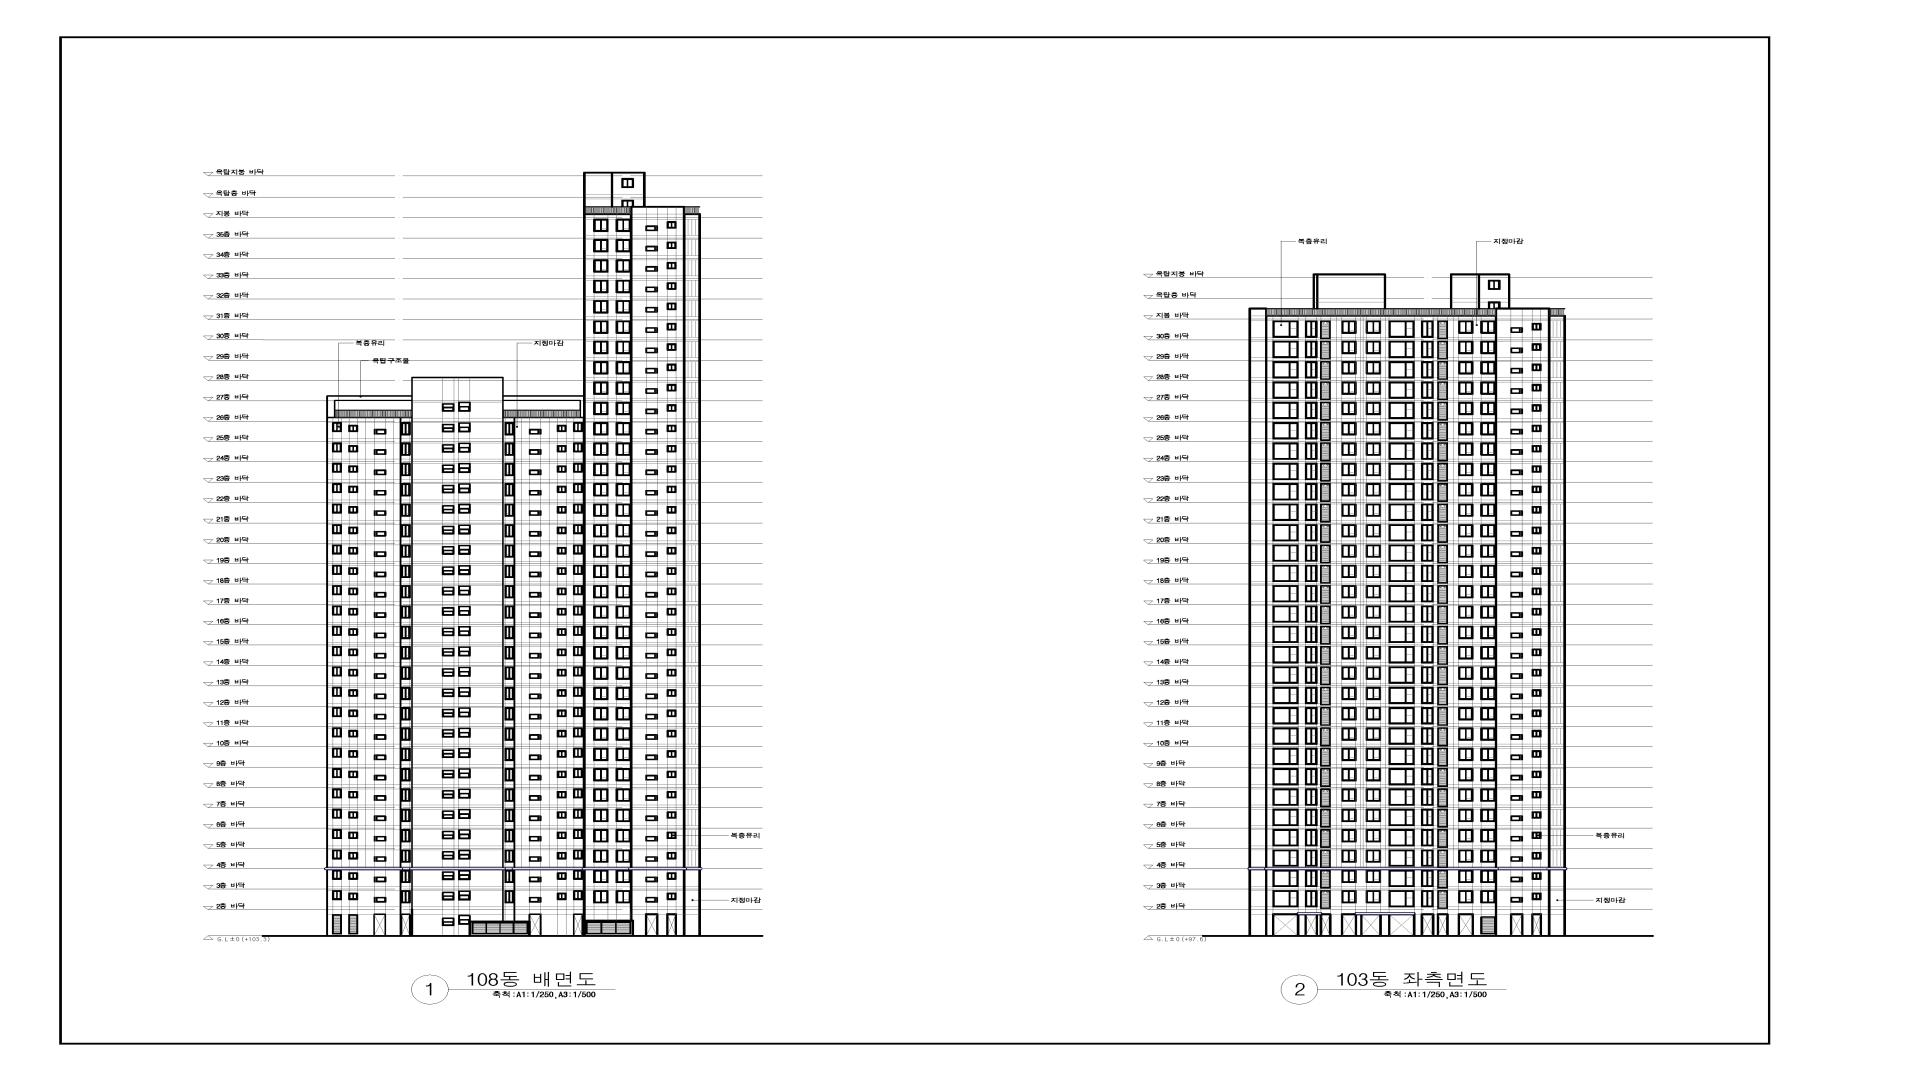door: (1389, 914, 1416, 936), (1273, 914, 1299, 936), (1360, 914, 1382, 936), (1457, 913, 1474, 936), (1341, 913, 1357, 936), (1420, 913, 1435, 936), (1510, 914, 1524, 936), (645, 913, 658, 936), (373, 914, 386, 936), (400, 914, 413, 936), (529, 914, 542, 936), (1304, 914, 1317, 936), (1320, 914, 1332, 936), (1437, 914, 1449, 936), (666, 913, 676, 936), (1531, 913, 1542, 936), (572, 914, 583, 936)
wall: (326, 171, 702, 938), (1249, 273, 1567, 936)
window: (472, 922, 529, 935), (585, 922, 632, 935), (1389, 829, 1415, 847), (1389, 808, 1415, 825), (1389, 789, 1415, 806), (1389, 767, 1415, 785), (1389, 748, 1415, 765), (1389, 728, 1415, 745), (1389, 707, 1415, 724), (1389, 687, 1415, 704), (1389, 666, 1415, 683), (1389, 646, 1415, 663), (1389, 625, 1415, 642), (1389, 605, 1415, 622), (1389, 585, 1415, 603), (1389, 564, 1415, 582), (1389, 545, 1415, 562), (1389, 525, 1415, 542), (1273, 890, 1299, 907), (1273, 870, 1299, 887), (1273, 849, 1299, 866), (1273, 829, 1299, 847), (1273, 808, 1299, 825), (1273, 789, 1299, 806), (1273, 769, 1299, 786), (1273, 748, 1299, 765), (1273, 728, 1299, 745), (1273, 707, 1299, 724), (1273, 687, 1299, 704), (1273, 666, 1299, 683), (1273, 646, 1299, 663), (1273, 626, 1299, 644), (1273, 605, 1299, 622), (1273, 585, 1299, 603), (1273, 564, 1299, 582), (1273, 545, 1299, 562), (1273, 525, 1299, 542), (1273, 504, 1299, 521), (1273, 463, 1299, 480), (1273, 443, 1299, 460), (1273, 422, 1299, 439), (1273, 402, 1299, 419), (1273, 381, 1299, 398), (1273, 361, 1299, 378), (1273, 320, 1299, 338), (1389, 890, 1415, 907), (1389, 870, 1415, 887), (1389, 849, 1415, 866), (1389, 504, 1415, 521), (1389, 483, 1415, 500), (1389, 463, 1415, 480), (1389, 422, 1415, 439), (1389, 402, 1415, 419), (1389, 381, 1415, 398), (1389, 361, 1415, 378), (1389, 340, 1415, 357), (1389, 320, 1415, 338), (1273, 484, 1299, 500), (1273, 342, 1299, 357), (1389, 443, 1415, 459), (1480, 916, 1495, 935), (616, 381, 632, 396), (1458, 524, 1474, 538), (1341, 666, 1357, 680), (1341, 524, 1357, 538), (1341, 442, 1357, 456), (1480, 524, 1495, 538), (1365, 666, 1381, 680), (1420, 789, 1433, 806), (1420, 728, 1433, 745), (1420, 646, 1433, 663), (1420, 585, 1433, 603), (1420, 545, 1433, 562), (1304, 890, 1317, 907), (1304, 545, 1317, 562), (348, 914, 359, 935), (1422, 524, 1433, 542), (1305, 666, 1317, 684), (1305, 524, 1317, 542), (1305, 442, 1317, 460), (616, 483, 630, 497), (616, 442, 630, 456), (616, 340, 630, 355), (593, 767, 608, 782), (593, 666, 608, 680), (593, 524, 608, 538), (616, 870, 632, 884), (616, 687, 632, 700), (616, 667, 632, 680), (616, 646, 632, 659), (616, 545, 632, 558), (616, 402, 632, 415), (593, 890, 609, 903), (593, 870, 609, 884), (593, 849, 609, 862), (593, 789, 609, 802), (593, 626, 609, 640), (593, 564, 609, 578), (1458, 626, 1474, 640), (1458, 605, 1474, 618), (1458, 585, 1474, 599), (1458, 545, 1474, 558), (1458, 504, 1474, 517), (1458, 422, 1474, 435), (1458, 402, 1474, 415), (1458, 381, 1474, 394), (1458, 361, 1474, 375), (1458, 342, 1474, 355), (1458, 320, 1474, 334), (1480, 890, 1495, 903), (1480, 870, 1495, 884), (1480, 849, 1495, 862), (1480, 829, 1495, 843), (1480, 808, 1495, 822), (1480, 789, 1495, 802), (1480, 767, 1495, 781), (1480, 748, 1495, 761), (1480, 728, 1495, 741), (1480, 707, 1495, 720), (1480, 687, 1495, 700), (1480, 666, 1495, 679), (1480, 646, 1495, 659), (1480, 626, 1495, 640), (1480, 605, 1495, 618), (1480, 585, 1495, 599), (1480, 564, 1495, 578), (1437, 625, 1448, 645), (1437, 564, 1448, 584), (1437, 524, 1448, 543), (1437, 483, 1448, 502), (1437, 340, 1448, 360), (1341, 890, 1357, 903), (1341, 870, 1357, 884), (1341, 849, 1357, 862), (1341, 829, 1357, 843), (1341, 808, 1357, 822), (1341, 789, 1357, 802), (1341, 769, 1357, 782), (1341, 748, 1357, 761), (1341, 728, 1357, 741), (1341, 707, 1357, 720), (1341, 687, 1357, 700), (1341, 646, 1357, 659), (1341, 626, 1357, 640), (1341, 605, 1357, 618), (1341, 585, 1357, 599), (1341, 564, 1357, 578), (1341, 545, 1357, 558), (1341, 504, 1357, 517), (1341, 483, 1357, 496), (1341, 463, 1357, 476), (1341, 422, 1357, 435), (1341, 402, 1357, 415), (1341, 381, 1357, 394), (1341, 361, 1357, 375), (1341, 340, 1357, 353), (1341, 320, 1357, 334), (1480, 545, 1495, 558), (1480, 504, 1495, 517), (1480, 483, 1495, 496), (1480, 463, 1495, 476), (1480, 443, 1495, 456), (1480, 422, 1495, 435), (1480, 402, 1495, 415), (1480, 381, 1495, 394), (1480, 361, 1495, 375), (1480, 342, 1495, 355), (1480, 320, 1495, 334), (1320, 869, 1331, 889), (1320, 808, 1331, 828), (1320, 767, 1331, 787), (1320, 625, 1331, 645), (1320, 564, 1331, 584), (1320, 524, 1331, 543), (1320, 483, 1331, 502), (1320, 340, 1331, 360), (1437, 808, 1448, 828), (1365, 707, 1381, 720), (1365, 687, 1381, 700), (1365, 525, 1381, 538), (1365, 504, 1381, 517), (1365, 483, 1381, 496), (1365, 443, 1381, 456), (1365, 422, 1381, 435), (1365, 402, 1381, 415), (1365, 361, 1381, 375), (1458, 890, 1474, 903), (1458, 849, 1474, 862), (1458, 829, 1474, 843), (1458, 808, 1474, 822), (1458, 789, 1474, 802), (1458, 767, 1474, 781), (1458, 748, 1474, 761), (1458, 728, 1474, 741), (1458, 707, 1474, 720), (1458, 687, 1474, 700), (1458, 666, 1474, 679), (1305, 381, 1317, 398), (1305, 361, 1317, 378), (1305, 340, 1317, 357), (1305, 320, 1317, 338), (1422, 890, 1433, 907), (1422, 870, 1433, 887), (1422, 849, 1433, 866), (1422, 829, 1433, 847), (1422, 808, 1433, 825), (1422, 767, 1433, 785), (1422, 748, 1433, 765), (1422, 707, 1433, 724), (1422, 687, 1433, 704), (1422, 666, 1433, 683), (1422, 626, 1433, 644), (1422, 605, 1433, 622), (1422, 564, 1433, 582), (1422, 504, 1433, 521), (1422, 483, 1433, 500), (1422, 443, 1433, 460), (1422, 422, 1433, 439), (1422, 463, 1433, 480), (1422, 402, 1433, 419), (1422, 381, 1433, 398), (1422, 361, 1433, 378), (1422, 342, 1433, 359), (1422, 320, 1433, 338), (1305, 870, 1317, 887), (1305, 849, 1317, 866), (1305, 829, 1317, 847), (1305, 808, 1317, 825), (1305, 789, 1317, 806), (1305, 767, 1317, 785), (1305, 748, 1317, 765), (1305, 728, 1317, 745), (1305, 707, 1317, 724), (1305, 687, 1317, 704), (1305, 646, 1317, 663), (1305, 626, 1317, 644), (1305, 605, 1317, 622), (1305, 585, 1317, 603), (1305, 564, 1317, 582), (1305, 504, 1317, 521), (1305, 483, 1317, 500), (1305, 463, 1317, 480), (1305, 422, 1317, 439), (1305, 402, 1317, 419), (332, 914, 342, 935), (1437, 769, 1448, 787), (1437, 748, 1448, 766), (1437, 728, 1448, 746), (1437, 707, 1448, 725), (1437, 687, 1448, 705), (1437, 666, 1448, 684), (1437, 646, 1448, 665), (1437, 605, 1448, 624), (1437, 585, 1448, 604), (1437, 545, 1448, 563), (1437, 504, 1448, 522), (1437, 463, 1448, 481), (1437, 443, 1448, 462), (1437, 422, 1448, 440), (1437, 402, 1448, 421), (1437, 381, 1448, 400), (1437, 361, 1448, 380), (1437, 320, 1448, 339), (1320, 849, 1331, 868), (1320, 829, 1331, 848), (1320, 789, 1331, 807), (1320, 748, 1331, 766), (1320, 728, 1331, 746), (1320, 707, 1331, 725), (1320, 687, 1331, 705), (1320, 666, 1331, 684), (1320, 646, 1331, 665), (1320, 605, 1331, 624), (1320, 585, 1331, 604), (1320, 545, 1331, 563), (1320, 504, 1331, 522), (1320, 463, 1331, 481), (1320, 443, 1331, 462), (1320, 422, 1331, 440), (1320, 402, 1331, 421), (1320, 381, 1331, 400), (1320, 361, 1331, 380), (1320, 320, 1331, 339), (1437, 890, 1448, 909), (1437, 870, 1448, 889), (1437, 849, 1448, 868), (1437, 829, 1448, 848), (1437, 789, 1448, 807), (1320, 890, 1331, 909), (616, 301, 630, 314), (616, 280, 630, 293), (616, 260, 630, 273), (616, 239, 630, 252), (616, 219, 630, 232), (593, 280, 608, 293), (593, 260, 608, 273), (593, 239, 608, 252), (593, 219, 608, 232), (616, 890, 630, 903), (616, 849, 630, 862), (616, 829, 630, 843), (616, 808, 630, 822), (616, 789, 630, 802), (616, 769, 630, 782), (616, 748, 630, 761), (616, 728, 630, 741), (616, 707, 630, 720), (616, 626, 630, 640), (616, 605, 630, 618), (616, 585, 630, 599), (616, 564, 630, 578), (616, 524, 630, 537), (616, 504, 630, 517), (616, 463, 630, 476), (616, 422, 630, 435), (616, 361, 630, 375), (616, 320, 630, 334), (593, 829, 608, 843), (593, 808, 608, 822), (593, 748, 608, 761), (593, 728, 608, 741), (593, 707, 608, 720), (593, 687, 608, 700), (593, 646, 608, 659), (593, 605, 608, 618), (593, 585, 608, 599), (593, 545, 608, 558), (593, 504, 608, 517), (593, 483, 608, 496), (593, 463, 608, 476), (593, 443, 608, 456), (593, 422, 608, 435), (593, 402, 608, 415), (593, 381, 608, 394), (593, 361, 608, 375), (593, 342, 608, 355), (593, 320, 608, 334), (593, 301, 608, 314), (1458, 646, 1473, 659), (1458, 564, 1473, 578), (1458, 483, 1473, 496), (1458, 463, 1473, 476), (1458, 443, 1473, 456), (1366, 890, 1381, 903), (1366, 870, 1381, 884), (1366, 849, 1381, 862), (1366, 829, 1381, 843), (1366, 808, 1381, 822), (1366, 789, 1381, 802), (1366, 767, 1381, 781), (1366, 748, 1381, 761), (1366, 728, 1381, 741), (1366, 646, 1381, 659), (1366, 626, 1381, 640), (1366, 605, 1381, 618), (1366, 585, 1381, 599), (1366, 564, 1381, 578), (1366, 545, 1381, 558), (1366, 463, 1381, 476), (1366, 381, 1381, 394), (1366, 340, 1381, 353), (1366, 320, 1381, 334), (1458, 870, 1473, 884), (401, 625, 411, 640), (458, 504, 471, 514), (458, 483, 471, 493), (458, 463, 471, 473), (458, 422, 471, 433), (621, 178, 634, 189), (401, 789, 411, 802), (401, 748, 411, 761), (401, 728, 411, 741), (458, 890, 471, 901), (458, 870, 471, 881), (458, 849, 471, 860), (458, 829, 471, 840), (458, 808, 471, 819), (458, 789, 471, 799), (458, 767, 471, 778), (458, 748, 471, 758), (458, 707, 471, 717), (458, 687, 471, 698), (458, 646, 471, 657), (458, 605, 471, 616), (458, 585, 471, 596), (458, 564, 471, 575), (458, 545, 471, 555), (401, 687, 411, 700), (401, 605, 411, 618), (401, 564, 411, 578), (401, 483, 411, 496), (401, 463, 411, 476), (401, 442, 411, 455), (504, 646, 514, 659), (1487, 280, 1501, 290), (505, 442, 514, 456), (401, 666, 410, 680), (505, 767, 514, 782), (505, 666, 514, 680), (442, 891, 455, 901), (442, 851, 455, 860), (442, 831, 455, 840), (442, 790, 455, 799), (442, 749, 455, 758), (458, 525, 471, 534), (458, 443, 471, 452), (458, 402, 471, 411), (401, 890, 410, 903), (401, 870, 410, 884), (401, 849, 410, 862), (401, 829, 410, 843), (401, 808, 410, 822), (401, 769, 410, 782), (505, 504, 514, 517), (505, 483, 514, 496), (505, 463, 514, 476), (505, 422, 514, 435), (442, 688, 455, 698), (442, 647, 455, 657), (442, 607, 455, 616), (442, 587, 455, 596), (442, 566, 455, 575), (442, 546, 455, 555), (442, 505, 455, 514), (442, 464, 455, 473), (442, 423, 455, 433), (458, 915, 471, 924), (458, 728, 471, 737), (458, 667, 471, 676), (458, 626, 471, 636), (401, 707, 410, 720), (401, 646, 410, 659), (401, 585, 410, 599), (401, 545, 410, 558), (401, 524, 410, 537), (401, 504, 410, 517), (401, 422, 410, 435), (505, 890, 514, 903), (505, 870, 514, 884), (505, 849, 514, 862), (505, 829, 514, 843), (505, 808, 514, 822), (505, 789, 514, 802), (505, 748, 514, 761), (505, 728, 514, 741), (505, 707, 514, 720), (505, 687, 514, 700), (505, 626, 514, 640), (505, 605, 514, 618), (505, 585, 514, 599), (505, 564, 514, 578), (505, 545, 514, 558), (505, 524, 514, 537), (572, 625, 583, 636), (572, 605, 583, 616), (572, 524, 583, 534), (572, 504, 583, 514), (572, 442, 583, 452), (572, 849, 583, 860), (572, 808, 583, 819), (572, 767, 583, 778), (572, 727, 583, 737), (572, 707, 583, 717), (442, 918, 455, 926), (442, 872, 455, 880), (442, 811, 455, 819), (442, 770, 455, 778), (442, 729, 455, 737), (621, 199, 634, 207), (442, 709, 455, 717), (442, 669, 455, 676), (442, 628, 455, 636), (442, 526, 455, 534), (442, 485, 455, 493), (442, 444, 455, 452), (442, 404, 455, 411), (1487, 301, 1501, 309), (572, 585, 583, 595), (574, 564, 583, 575), (574, 545, 583, 555), (574, 483, 583, 493), (574, 463, 583, 473), (574, 422, 583, 433), (332, 849, 342, 860), (332, 808, 342, 819), (332, 767, 342, 778), (332, 748, 342, 758), (332, 707, 342, 717), (332, 666, 342, 676), (332, 646, 342, 657), (332, 625, 342, 636), (332, 605, 342, 616), (332, 564, 342, 575), (332, 545, 342, 555), (332, 524, 342, 534), (332, 504, 342, 514), (332, 483, 342, 493), (332, 442, 342, 452), (332, 422, 342, 433), (574, 890, 583, 901), (572, 870, 583, 880), (574, 828, 583, 839), (572, 789, 583, 798), (574, 748, 583, 758), (572, 687, 583, 696), (574, 666, 583, 676), (574, 646, 583, 657), (332, 890, 342, 901), (529, 856, 542, 862), (529, 815, 542, 822), (529, 754, 542, 761), (529, 713, 542, 720), (529, 673, 542, 679), (529, 612, 542, 618), (529, 571, 542, 578), (529, 551, 542, 558), (645, 897, 658, 903), (645, 856, 658, 862), (645, 815, 658, 822), (645, 774, 658, 781), (645, 713, 658, 720), (373, 897, 386, 903), (373, 856, 386, 862), (373, 815, 386, 822), (373, 774, 386, 781), (373, 754, 386, 761), (373, 713, 386, 720), (373, 612, 386, 618), (373, 571, 386, 578), (373, 489, 386, 496), (373, 429, 386, 435), (529, 897, 542, 903), (645, 653, 658, 659), (645, 612, 658, 618), (645, 571, 658, 578), (645, 489, 658, 496), (645, 448, 658, 455), (645, 429, 658, 435), (645, 388, 658, 394), (645, 347, 658, 353), (645, 327, 658, 334), (645, 286, 658, 293), (645, 245, 658, 252), (1510, 388, 1523, 394), (1510, 327, 1523, 334), (1510, 856, 1523, 862), (1510, 815, 1523, 822), (1510, 713, 1523, 720), (1510, 673, 1523, 679), (1510, 612, 1523, 618), (1510, 571, 1523, 578), (1510, 429, 1523, 435), (332, 829, 342, 839), (332, 789, 342, 798), (332, 728, 342, 737), (332, 687, 342, 696), (332, 585, 342, 595), (332, 463, 342, 472), (332, 870, 342, 880), (348, 893, 359, 901), (348, 872, 359, 880), (348, 852, 359, 860), (348, 811, 359, 819), (348, 791, 359, 799), (348, 770, 359, 778), (348, 750, 359, 758), (348, 729, 359, 737), (348, 709, 359, 717), (348, 669, 359, 676), (348, 649, 359, 657), (348, 608, 359, 616), (348, 567, 359, 575), (348, 547, 359, 555), (348, 526, 359, 534), (348, 485, 359, 493), (348, 465, 359, 473), (348, 444, 359, 452), (348, 425, 359, 433), (666, 669, 676, 676), (666, 628, 676, 636), (666, 608, 676, 616), (666, 567, 676, 575), (666, 547, 676, 555), (666, 526, 676, 534), (666, 506, 676, 514), (666, 485, 676, 493), (666, 465, 676, 473), (666, 444, 676, 452), (666, 425, 676, 433), (666, 404, 676, 411), (666, 384, 676, 392), (666, 343, 676, 351), (666, 323, 676, 331), (666, 302, 676, 310), (666, 282, 676, 290), (666, 241, 676, 249), (556, 893, 567, 901), (556, 872, 567, 880), (556, 852, 567, 860), (556, 811, 567, 819), (556, 791, 567, 799), (556, 770, 567, 778), (556, 750, 567, 758), (556, 729, 567, 737), (556, 709, 567, 717), (556, 688, 567, 696), (556, 669, 567, 676), (556, 649, 567, 657), (556, 628, 567, 636), (556, 608, 567, 616), (556, 567, 567, 575), (556, 526, 567, 534), (556, 485, 567, 493), (556, 465, 567, 473), (556, 444, 567, 452), (556, 425, 567, 433), (666, 893, 676, 901), (666, 872, 676, 880), (666, 852, 676, 860), (666, 811, 676, 819), (666, 770, 676, 778), (666, 750, 676, 758), (666, 729, 676, 737), (666, 709, 676, 717), (1531, 893, 1542, 901), (1531, 872, 1542, 880), (1531, 852, 1542, 860), (1531, 811, 1542, 819), (1531, 791, 1542, 799), (1531, 770, 1542, 778), (1531, 750, 1542, 758), (1531, 729, 1542, 737), (1531, 709, 1542, 717), (1531, 669, 1542, 676), (1531, 649, 1542, 657), (1531, 628, 1542, 636), (1531, 608, 1542, 616), (1531, 567, 1542, 575), (1531, 547, 1542, 555), (1531, 506, 1542, 514), (1531, 485, 1542, 493), (1531, 465, 1542, 473), (1531, 444, 1542, 452), (1531, 425, 1542, 433), (1531, 384, 1542, 392), (1531, 343, 1542, 351), (1531, 323, 1542, 331), (667, 649, 676, 657), (1532, 526, 1542, 534), (529, 836, 542, 841), (529, 795, 542, 800), (529, 775, 542, 781), (529, 735, 542, 740), (529, 694, 542, 699), (529, 653, 542, 658), (529, 633, 542, 638), (529, 592, 542, 597), (529, 531, 542, 537), (529, 510, 542, 516), (529, 491, 542, 496), (529, 469, 542, 475), (529, 450, 542, 455), (529, 429, 542, 434), (645, 877, 658, 882), (645, 836, 658, 841), (645, 795, 658, 800), (645, 754, 658, 760), (645, 735, 658, 740), (645, 694, 658, 699), (645, 674, 658, 679), (348, 832, 359, 839), (348, 690, 359, 696), (348, 629, 359, 636), (348, 588, 359, 595), (348, 506, 359, 513), (373, 877, 386, 882), (373, 836, 386, 841), (373, 795, 386, 800), (373, 735, 386, 740), (373, 694, 386, 699), (373, 674, 386, 679), (373, 653, 386, 658), (373, 633, 386, 638), (373, 592, 386, 597), (373, 551, 386, 556), (373, 531, 386, 537), (373, 510, 386, 516), (373, 469, 386, 475), (373, 450, 386, 455), (529, 877, 542, 882), (666, 690, 676, 696), (666, 588, 676, 595), (666, 364, 676, 371), (666, 262, 676, 269), (666, 222, 676, 228), (645, 633, 658, 638), (645, 592, 658, 597), (645, 551, 658, 556), (645, 531, 658, 537), (645, 510, 658, 516), (645, 469, 658, 475), (645, 409, 658, 414), (645, 368, 658, 373), (645, 307, 658, 313), (645, 266, 658, 272), (645, 225, 658, 231), (556, 832, 567, 839), (556, 588, 567, 595), (556, 547, 567, 554), (556, 506, 567, 513), (666, 832, 676, 839), (666, 791, 676, 798), (1510, 409, 1523, 414), (1531, 832, 1542, 839), (1531, 690, 1542, 696), (1531, 588, 1542, 595), (1531, 405, 1542, 411), (1531, 364, 1542, 371), (1510, 897, 1523, 902), (1510, 877, 1523, 882), (1510, 836, 1523, 841), (1510, 795, 1523, 800), (1510, 775, 1523, 781), (1510, 754, 1523, 760), (1510, 735, 1523, 740), (1510, 694, 1523, 699), (1510, 653, 1523, 658), (1510, 633, 1523, 638), (1510, 592, 1523, 597), (1510, 551, 1523, 556), (1510, 531, 1523, 537), (1510, 510, 1523, 516), (1510, 491, 1523, 496), (1510, 469, 1523, 475), (1510, 450, 1523, 455), (1510, 368, 1523, 373), (1510, 348, 1523, 353)
